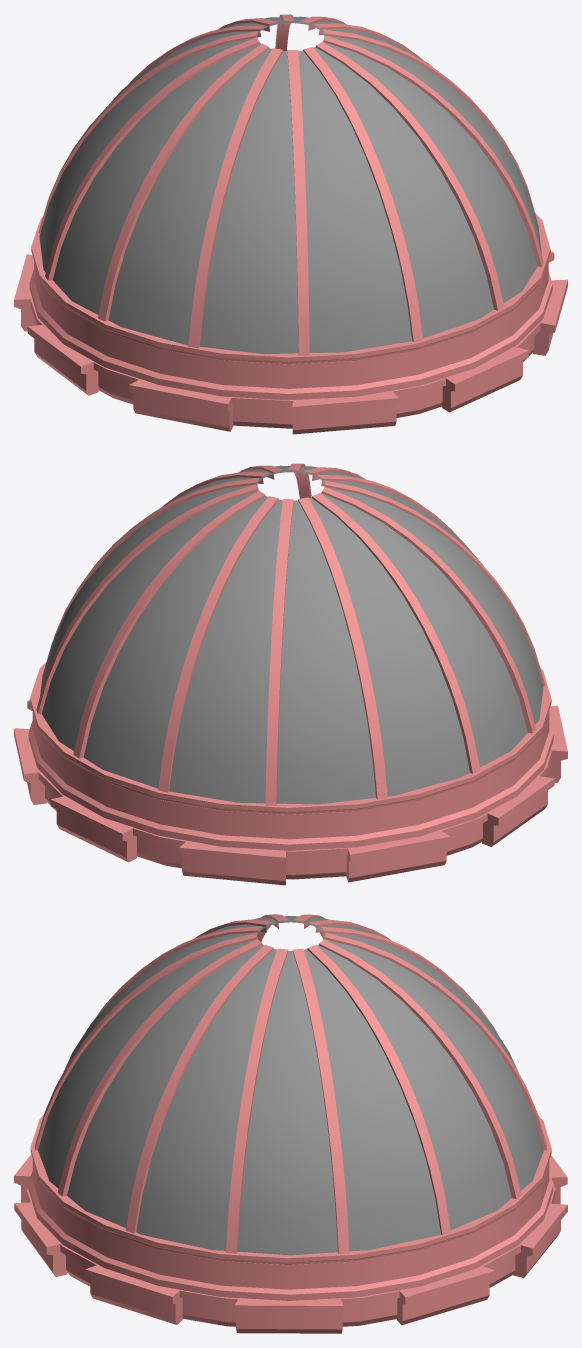
File: S_Envi_Fyz_Building_104t.gltf
3 views of the same model, one above another, from view 1: azimuth 30°, elevation 25°; view 2: azimuth 150°, elevation 25°; view 3: azimuth 270°, elevation 25° (orthographic).
Parts seen in each view (by area): view 1: S_Envi_Fyz_Building_104t; view 2: S_Envi_Fyz_Building_104t; view 3: S_Envi_Fyz_Building_104t.
Part boxes in pixels (x1,y1,x2,y2): S_Envi_Fyz_Building_104t: [14, 14, 567, 434]; S_Envi_Fyz_Building_104t: [14, 463, 567, 885]; S_Envi_Fyz_Building_104t: [14, 914, 567, 1333].
Size of the model in its own units: 13.46 by 7.79 by 13.61.
